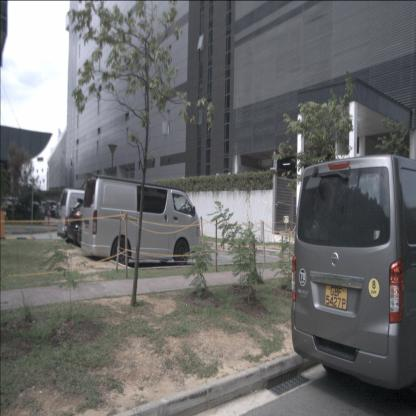vehicle-car: (291, 153, 415, 403), (81, 174, 201, 266), (57, 188, 115, 241), (67, 198, 119, 248), (6, 204, 34, 220), (44, 200, 57, 216)
